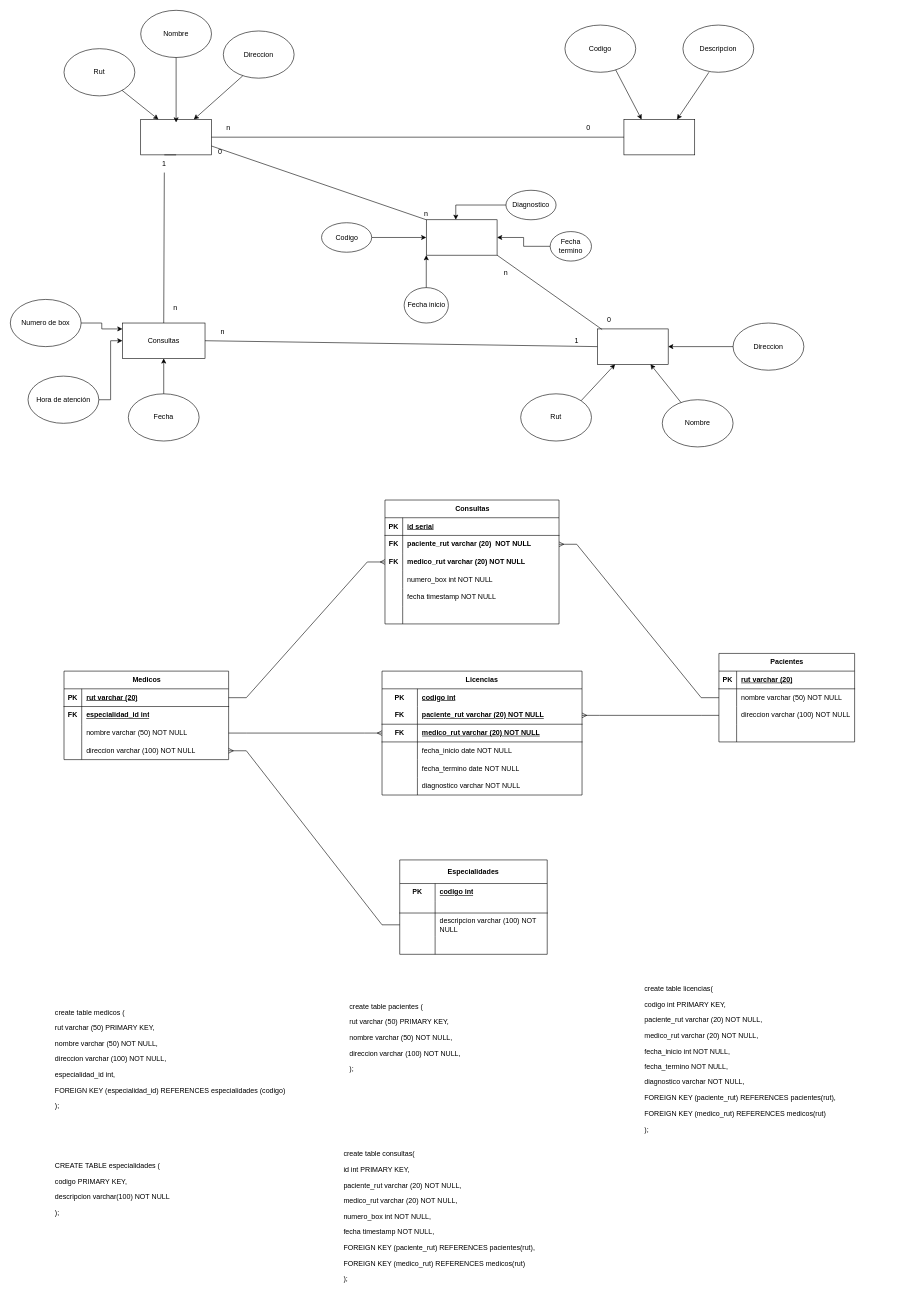
The diagram is 917 pixels wide and 1313 high, and some of its shapes have lost their labels. Here are the shapes that lost their labels. From the top down, the centre of each, then its label:
At [176,137]: "Medico".
At [659,137]: "Especialidad".
At [461,237]: "Licencia".
At [632,346]: "Paciente".
